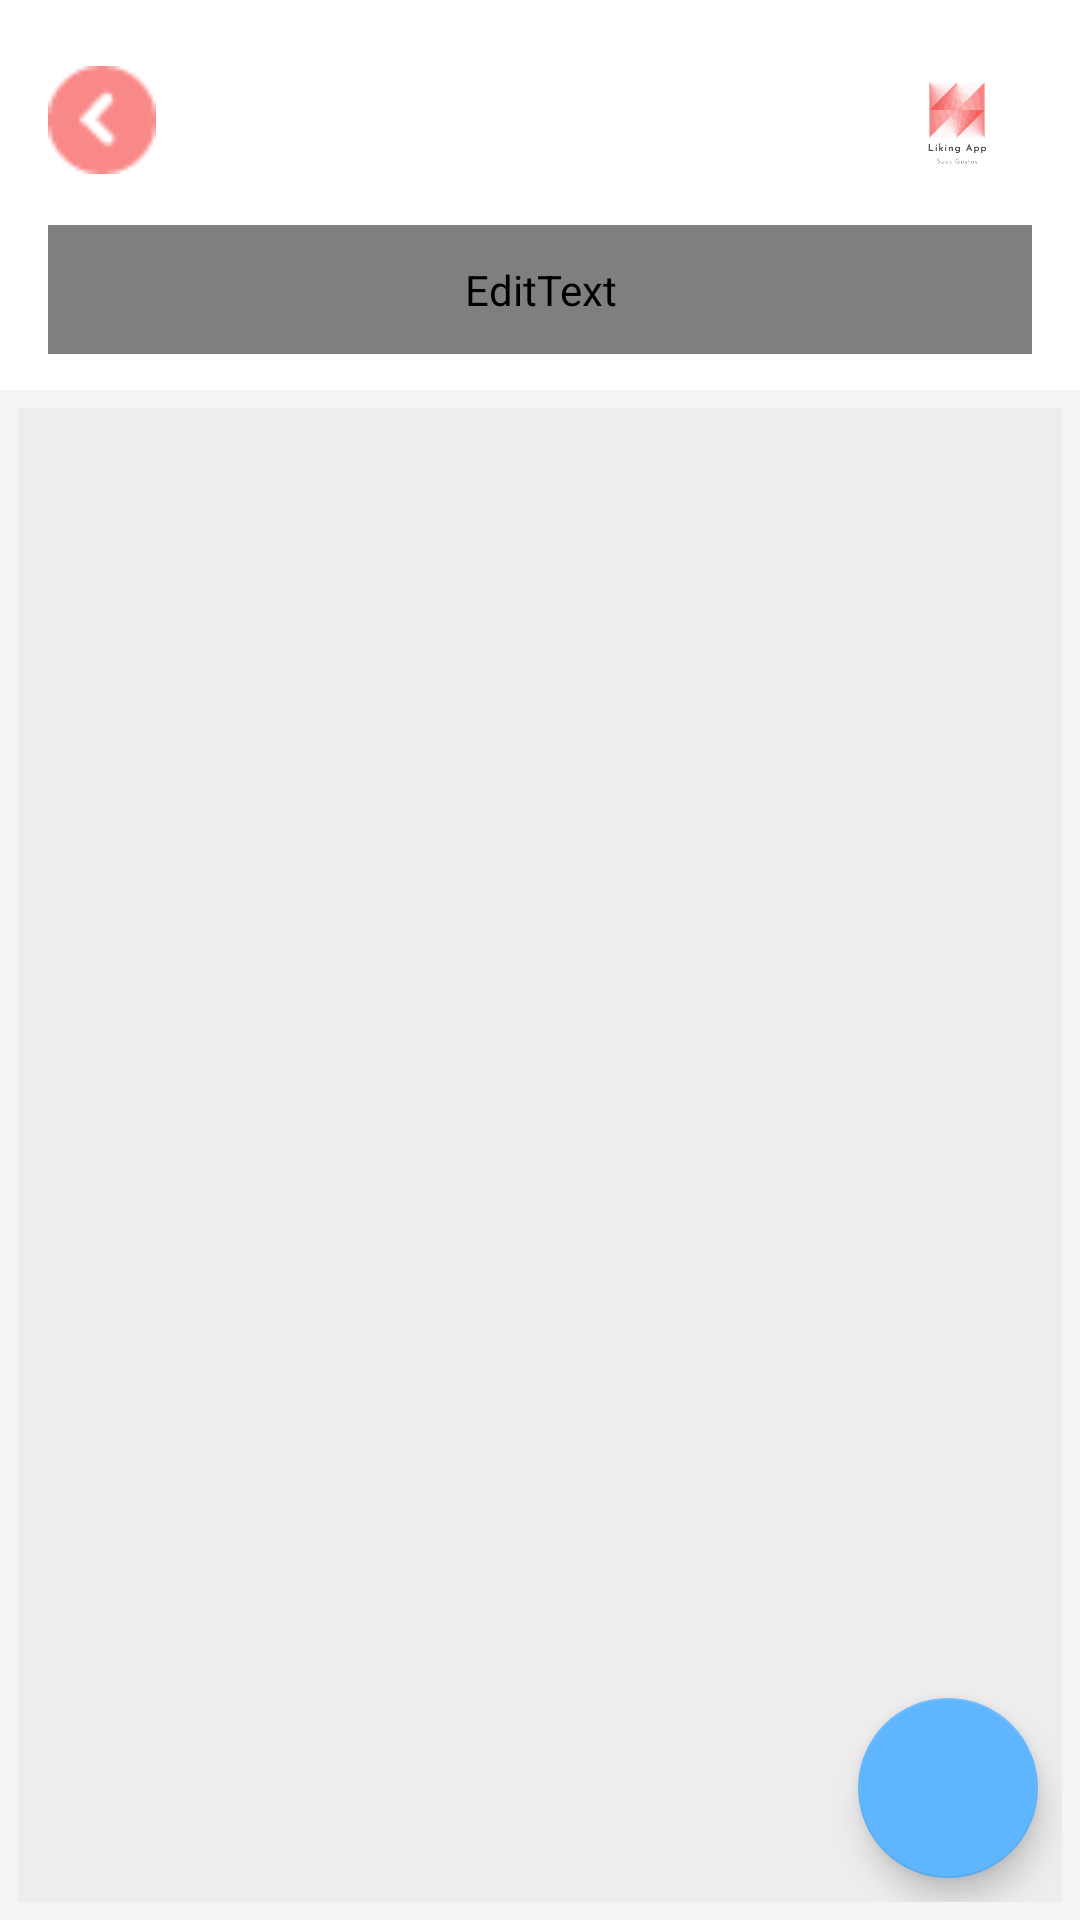

Icon bounding boxes for this 1080×1920 phone screenshot, format (x1, y1, x2, y2):
voltar: (48, 66, 156, 174)
